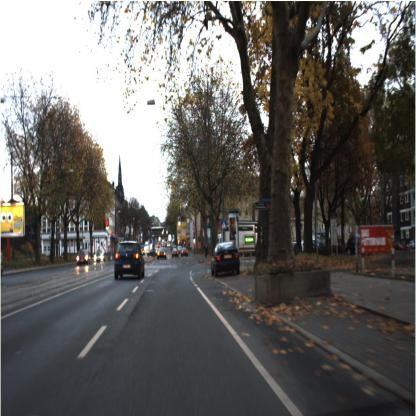mandatory: (217, 216, 228, 235)
